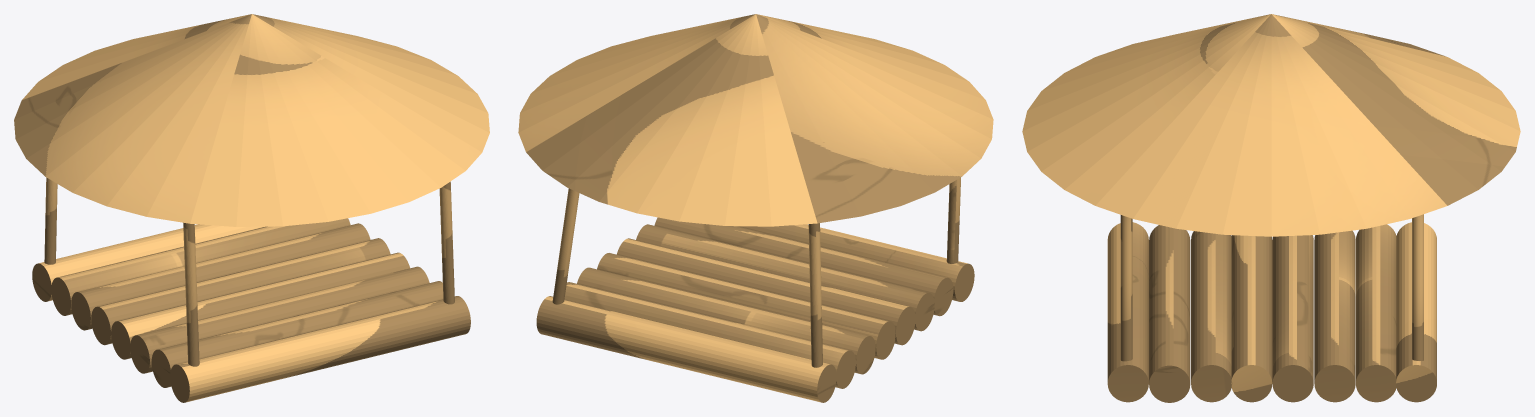
The model's file is LogPlatformRoofed.fbx.
3 views of the same model, side by side, from view 1: azimuth 30°, elevation 25°; view 2: azimuth 150°, elevation 25°; view 3: azimuth 270°, elevation 25° (orthographic). The views are drawn at different scales.
Parts seen in each view (by area): view 1: Cone; view 2: Cone; view 3: Cone.
Boxes of the visible parts, x1,y1,x2,y2 form: Cone: (14,14,489,402); Cone: (518,14,993,402); Cone: (1022,14,1520,402).
Size of the model in its own units: 3173 by 2225 by 3173.
